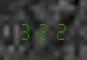three: (18, 20, 33, 40)
two: (35, 20, 50, 40), (51, 20, 66, 40)
